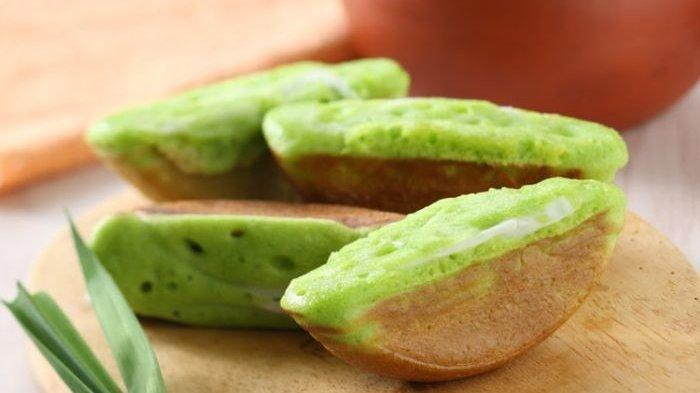pukis: (270, 153, 649, 370)
